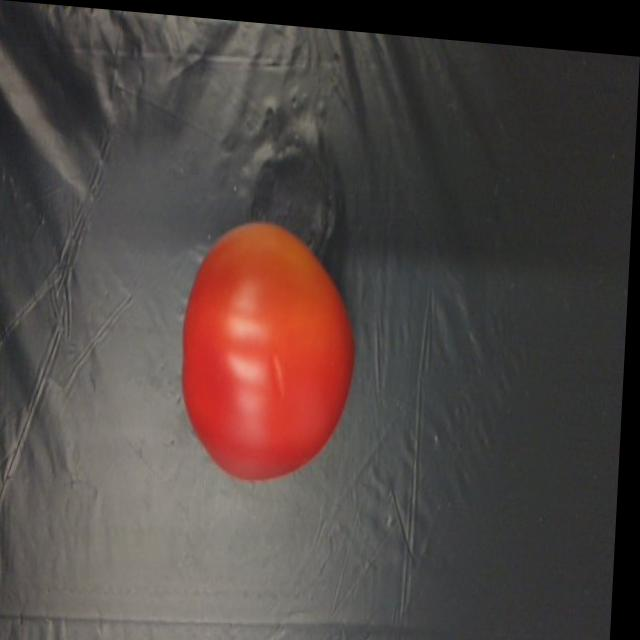kirmizi: (170, 181, 367, 493)
